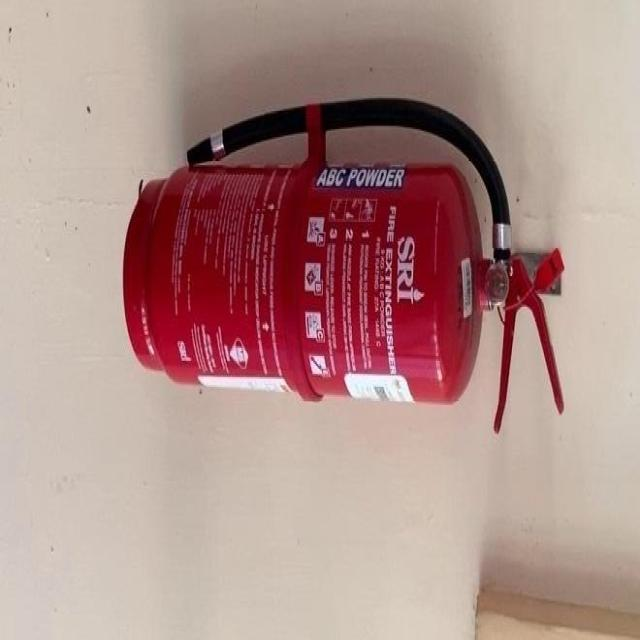fire_extinguisher: (117, 86, 568, 438)
